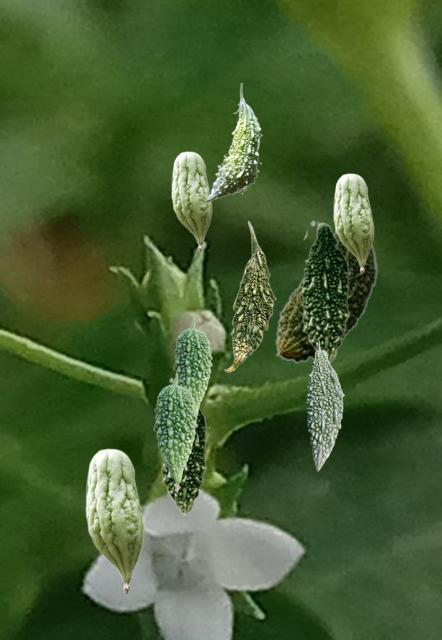ampalaya: (275, 231, 377, 362), (85, 448, 143, 593), (224, 220, 275, 371), (301, 220, 352, 363), (160, 377, 209, 515), (205, 83, 261, 202), (153, 373, 196, 492), (305, 338, 343, 470), (171, 151, 211, 251), (333, 173, 373, 273), (173, 318, 211, 421)
